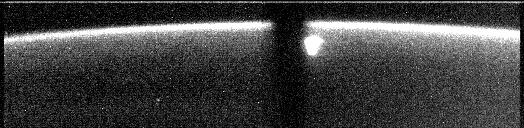positive: (302, 35, 326, 58)
